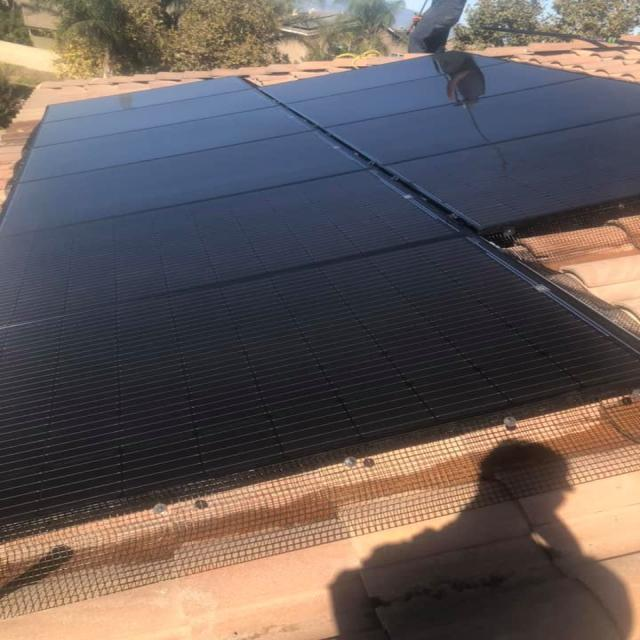clean-solar-panel: (3, 79, 637, 531), (268, 55, 638, 230)
